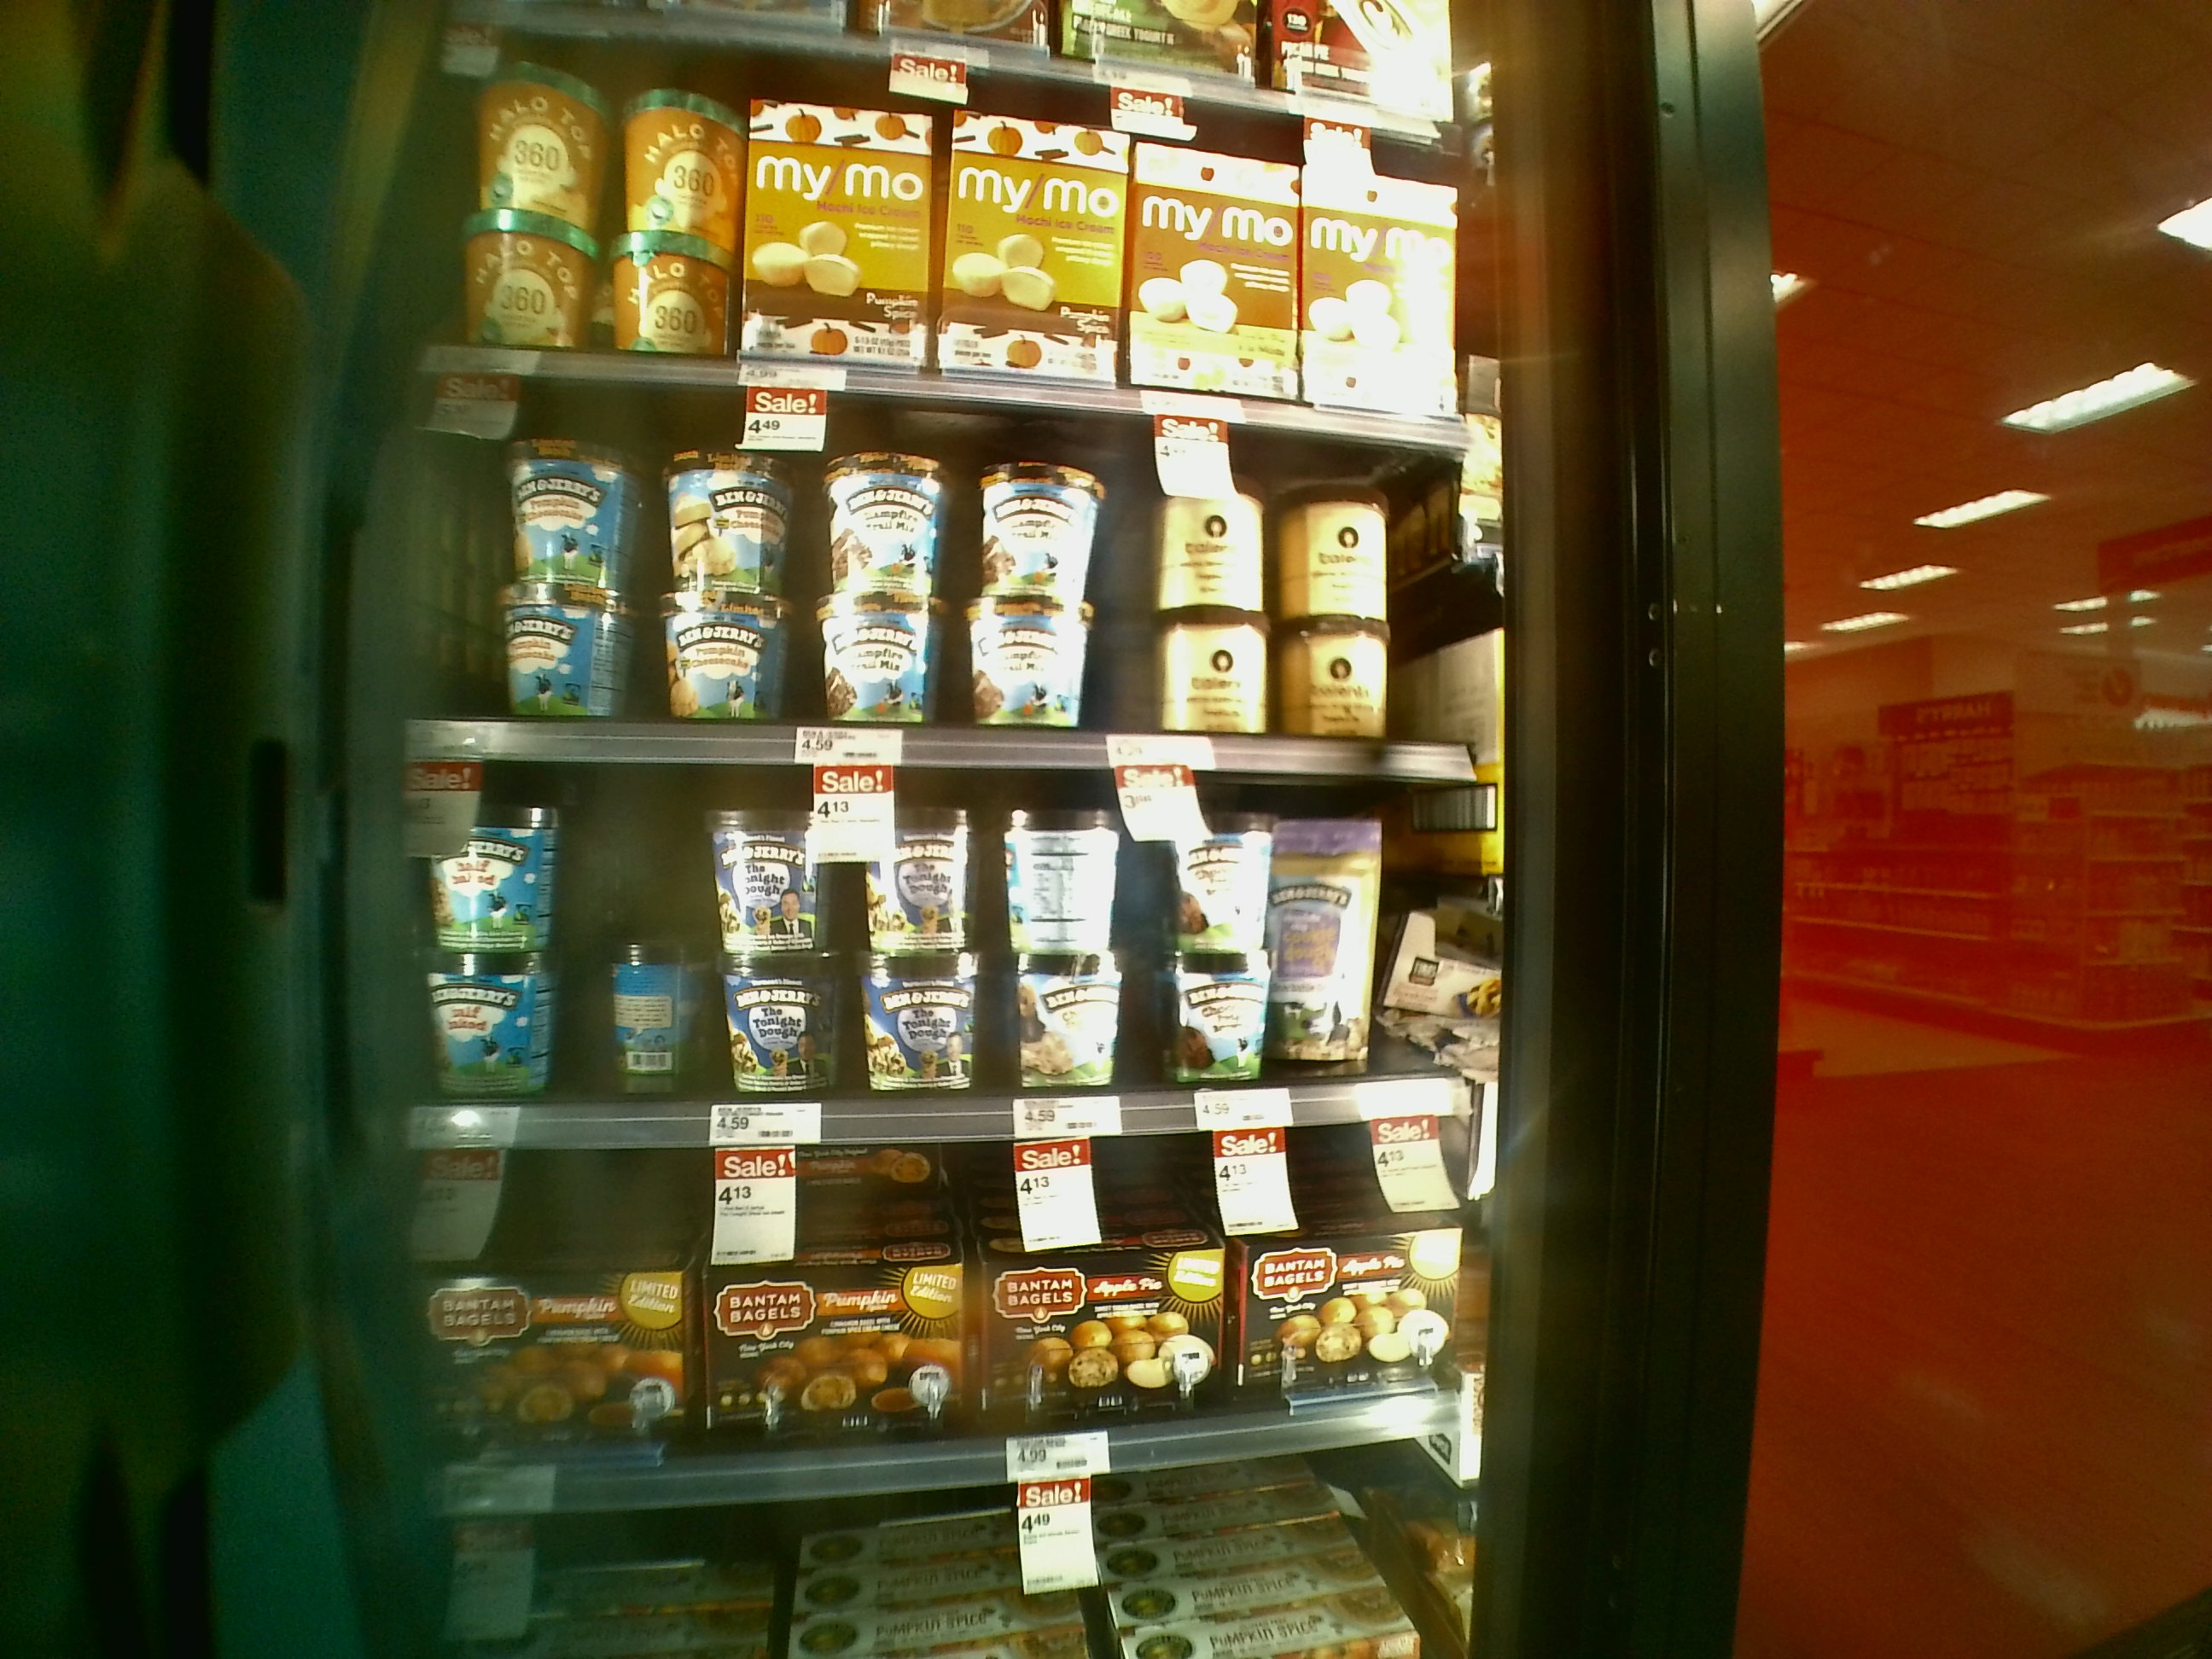shelf: (381, 376, 1517, 769), (355, 732, 1484, 1124), (364, 1115, 1534, 1486)
